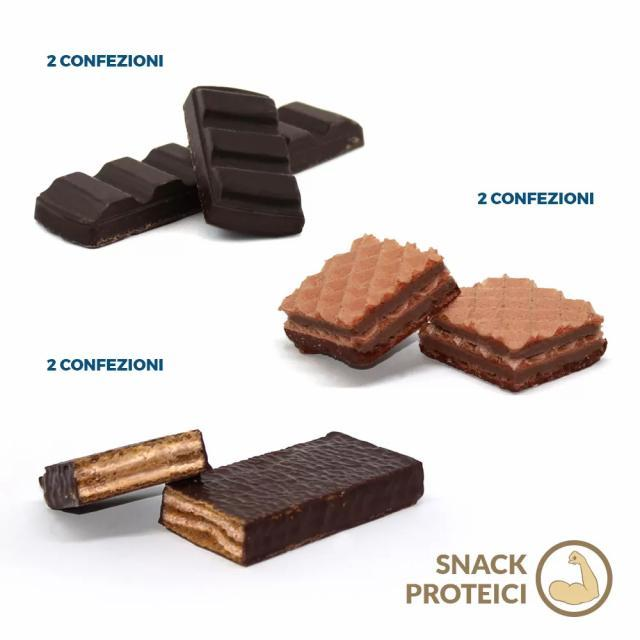Chocolate bar packaged: (33, 101, 364, 252), (155, 428, 425, 566), (267, 231, 461, 371), (426, 266, 615, 396), (175, 80, 309, 242), (35, 429, 213, 514)
